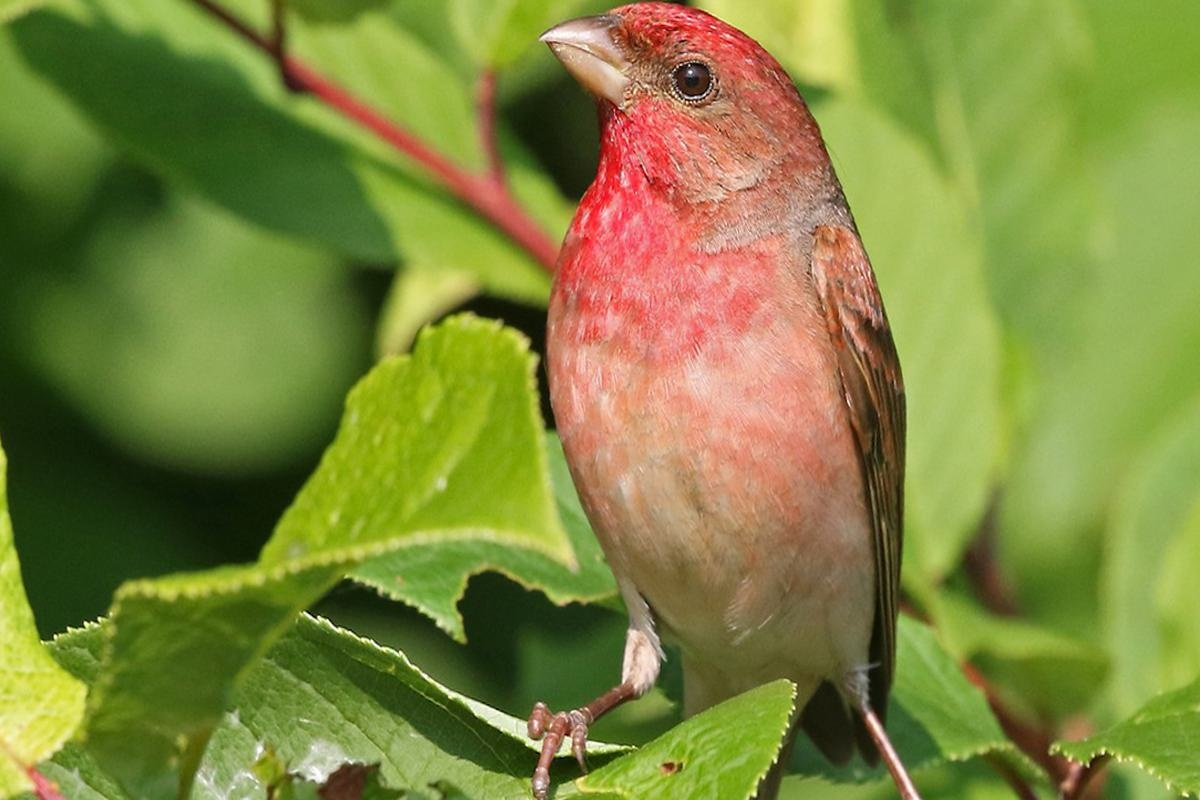rosefinch: (551, 11, 909, 713)
